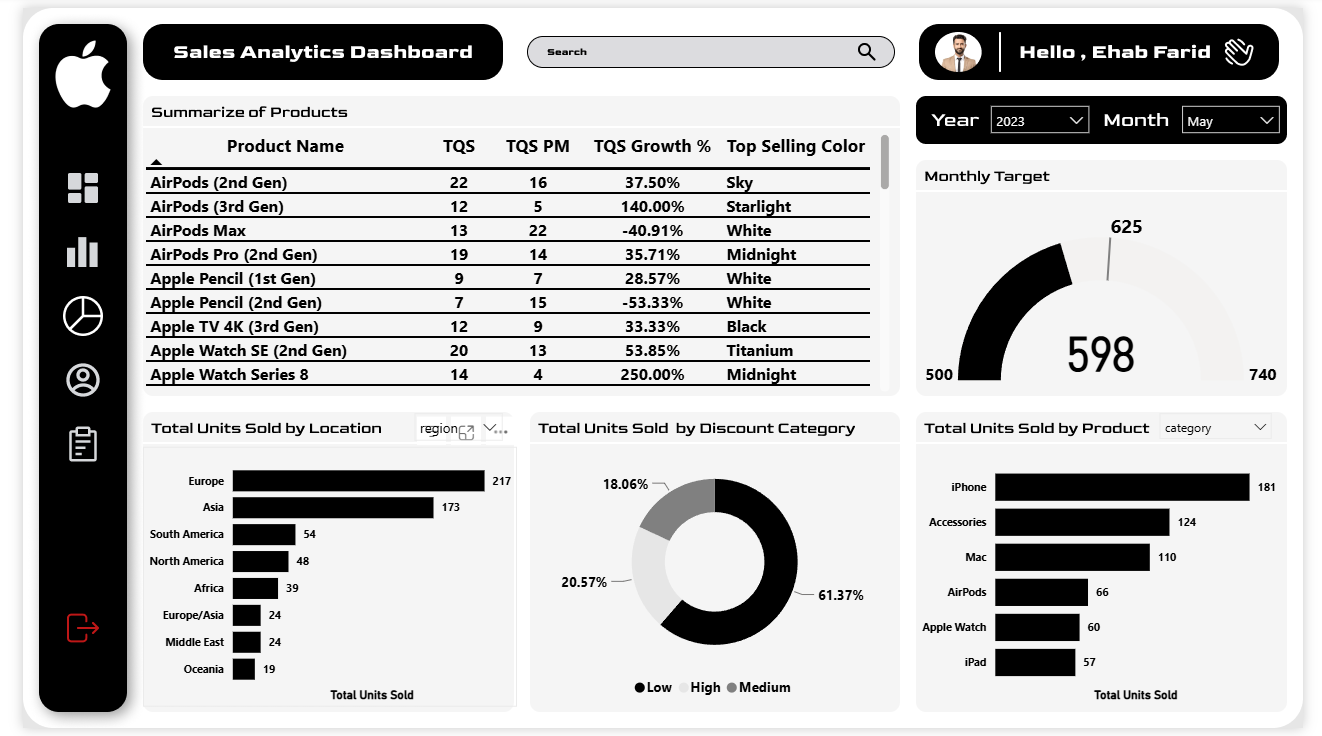

The page's visual inventory and layout, read from the dashboard file:
{"tool":"powerbi","page":{"name":"Quantity","canvas":[1280,720],"ordinal":2},"visuals":[{"type":"barChart","fields":{"Category":["Dim City.region"],"Y":["Measures (2).Total quantity sold"]},"box":[120,438.8,373.8,260],"z":0},{"type":"donutChart","fields":{"Category":["Fact.Discount Category"],"Y":["Measures (2).Total quantity sold"]},"box":[507.5,438.8,368.8,260],"z":1000},{"type":"barChart","fields":{"Category":["Dim Product.category"],"Y":["Measures (2).Total quantity sold"]},"box":[892.5,438.8,366.2,260],"z":2000},{"type":"gauge","fields":{"MaxValue":["Measures (2).Max p"],"MinValue":["Measures (2).Min P"],"TargetValue":["Measures (2).Target p"],"Y":["Filters.Quantity Filter"]},"box":[892.5,183.8,371.2,205],"z":3000},{"type":"slicer","fields":{"Values":["Date Dim.Year"]},"box":[957.1,87.1,118.6,48.6],"z":4000},{"type":"slicer","fields":{"Values":["Date Dim.Short Month"]},"box":[1148.8,87.5,118,48.8],"z":5000},{"type":"slicer","fields":{"Values":["Parameter 2.Parameter 2"]},"box":[381.4,395,108.2,43.6],"z":6000},{"type":"slicer","fields":{"Values":["Product.Parameter 1"]},"box":[1126.4,395.5,132.7,43.6],"z":7000},{"type":"tableEx","fields":{"Values":["Fact.product_name","Measures (2).Total quantity sold","Measures (2).Total quantity sold PM","Measures (2).Total Quantity sold growth %","Measures (2).Top Selling Color"]},"box":[116.2,121.2,755,267.5],"z":8000},{"type":"actionButton","box":[40,224.8,40,40],"z":9000},{"type":"actionButton","box":[40,352.1,40,39.6],"z":10000},{"type":"actionButton","box":[40,160.5,40,40],"z":11000}]}

Visuals, with their boxes in screenshot pixels (x1, y1, x2, y2), scaled from the page's 1280x720 canvas onto the 1322x736 screenshot:
barChart - Dim City.region x Measures (2).Total quantity sold: bbox(124, 449, 510, 714)
donutChart - Fact.Discount Category x Measures (2).Total quantity sold: bbox(524, 449, 905, 714)
barChart - Dim Product.category x Measures (2).Total quantity sold: bbox(922, 449, 1300, 714)
gauge - Measures (2).Max p x Measures (2).Min P: bbox(922, 188, 1305, 397)
slicer - Date Dim.Year: bbox(989, 89, 1111, 139)
slicer - Date Dim.Short Month: bbox(1186, 89, 1308, 139)
slicer - Parameter 2.Parameter 2: bbox(394, 404, 506, 448)
slicer - Product.Parameter 1: bbox(1163, 404, 1300, 449)
tableEx - Fact.product_name x Measures (2).Total quantity sold: bbox(120, 124, 900, 397)
actionButton: bbox(41, 230, 83, 271)
actionButton: bbox(41, 360, 83, 400)
actionButton: bbox(41, 164, 83, 205)
